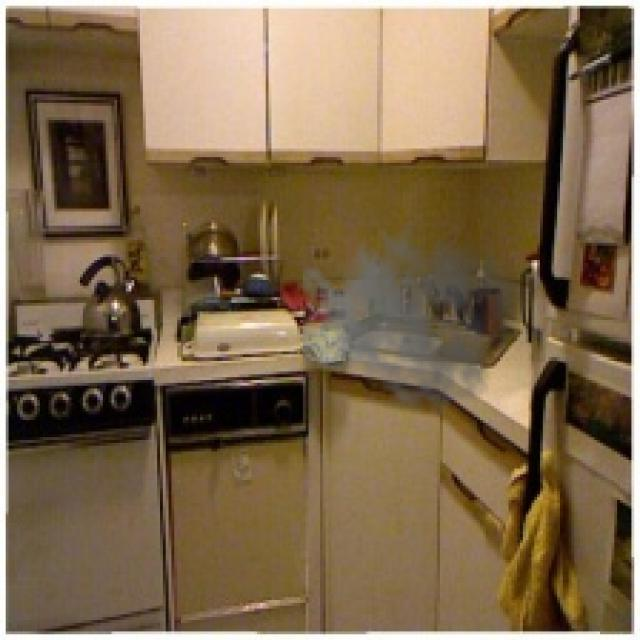Smoke: (303, 208, 523, 420)
